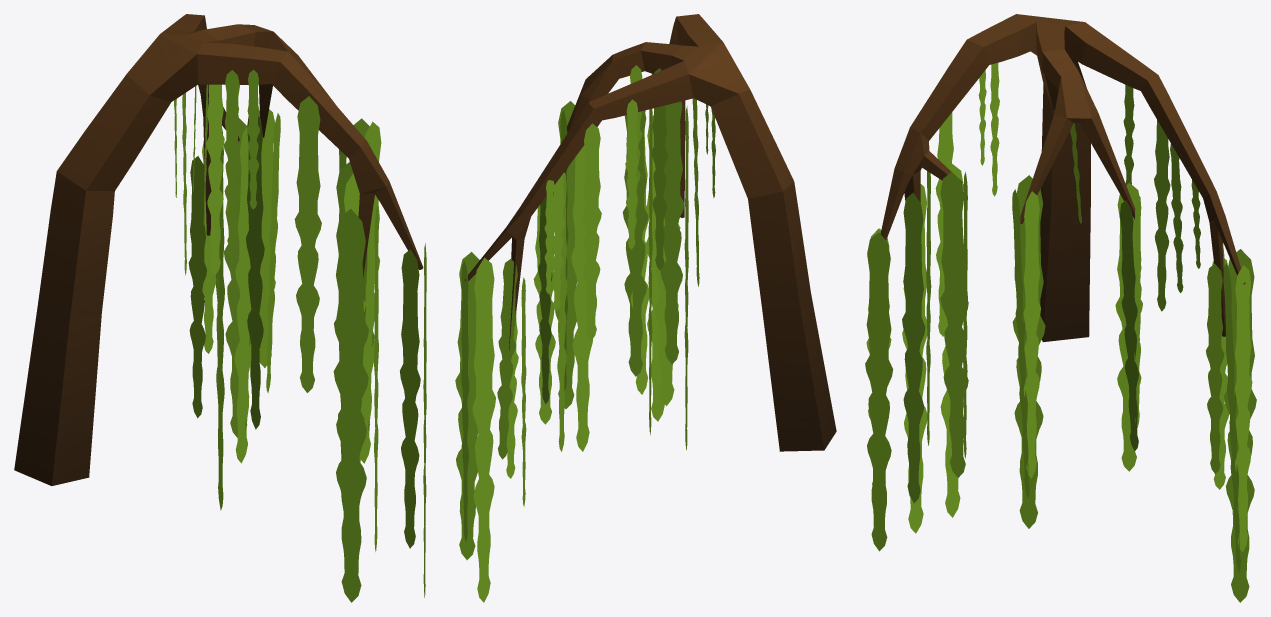
The model's file is weeping_sole.glb.
3 renders of one model, left to right at view 1: azimuth 30°, elevation 25°; view 2: azimuth 150°, elevation 25°; view 3: azimuth 270°, elevation 25°, orthographic. The views are drawn at different scales.
Visible parts, largest first — view 1: Cube.017, Plane.005, Plane.013, Plane.008, Plane.031, Plane.023, Plane.026, Plane.019, Plane.021, Plane.016, Plane.030, Plane.014 (+8 smaller); view 2: Cube.017, Plane.032, Plane.009, Plane.018, Plane.031, Plane.010, Plane.024, Plane.028, Plane.019, Plane.016, Plane.007, Plane.030 (+14 smaller); view 3: Cube.017, Plane.007, Plane.011, Plane.006, Plane.020, Plane.030, Plane.032, Plane.018, Plane.022, Plane.027, Plane.023, Plane.019 (+12 smaller).
Part boxes in pixels (<box>): Cube.017: <box>14,14,423,485</box>; Plane.005: <box>333,209,368,602</box>; Plane.013: <box>294,96,321,392</box>; Plane.008: <box>400,249,420,548</box>; Plane.031: <box>234,126,251,463</box>; Plane.023: <box>246,115,264,429</box>; Plane.026: <box>188,156,206,418</box>; Plane.019: <box>360,121,381,463</box>; Plane.021: <box>259,109,277,367</box>; Plane.016: <box>206,84,224,274</box>; Plane.030: <box>223,118,250,437</box>; Plane.014: <box>223,70,240,249</box>; Cube.017: <box>464,14,836,451</box>; Plane.032: <box>472,257,495,602</box>; Plane.009: <box>660,101,684,364</box>; Plane.018: <box>571,145,592,451</box>; Plane.031: <box>455,252,479,559</box>; Plane.010: <box>622,110,648,376</box>; Plane.024: <box>582,123,601,340</box>; Plane.028: <box>497,259,517,459</box>; Plane.019: <box>555,101,576,408</box>; Plane.016: <box>651,68,667,270</box>; Plane.007: <box>646,115,664,421</box>; Plane.030: <box>461,261,469,541</box>; Cube.017: <box>880,14,1245,342</box>; Plane.007: <box>865,232,893,551</box>; Plane.011: <box>940,172,968,477</box>; Plane.006: <box>902,192,925,503</box>; Plane.020: <box>1022,191,1040,478</box>; Plane.030: <box>1233,265,1252,552</box>; Plane.032: <box>1224,249,1256,602</box>; Plane.018: <box>1012,175,1045,528</box>; Plane.022: <box>1120,200,1138,451</box>; Plane.027: <box>1206,264,1224,474</box>; Plane.023: <box>1115,182,1142,471</box>; Plane.019: <box>1012,189,1029,498</box>.
Size of the model in its own units: 1.86 by 3.08 by 2.08.
22 materials, 1 textured.
